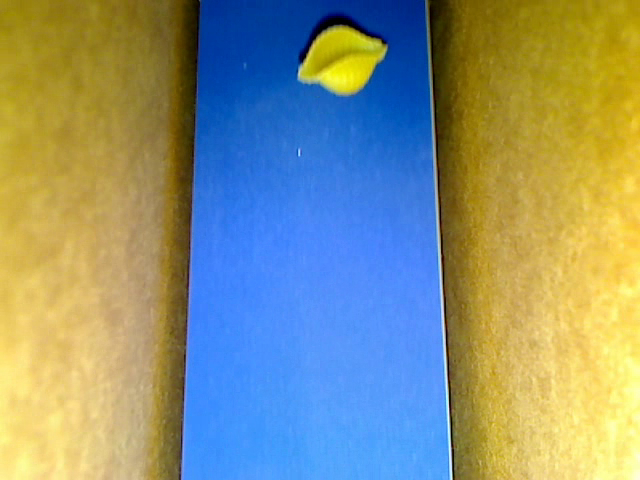shell: (298, 24, 386, 96)
